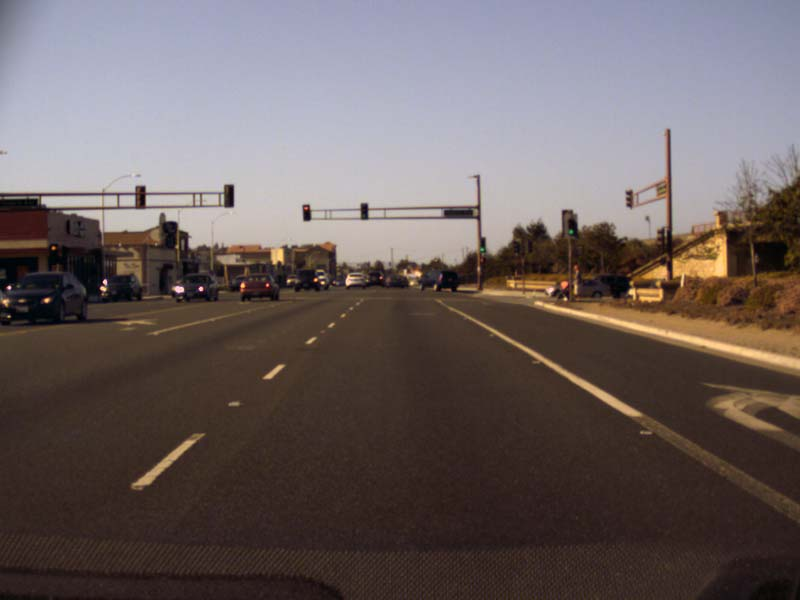Green: (567, 219, 577, 237), (360, 203, 368, 219), (480, 237, 485, 252)
Red: (49, 244, 58, 262), (302, 204, 310, 221)
